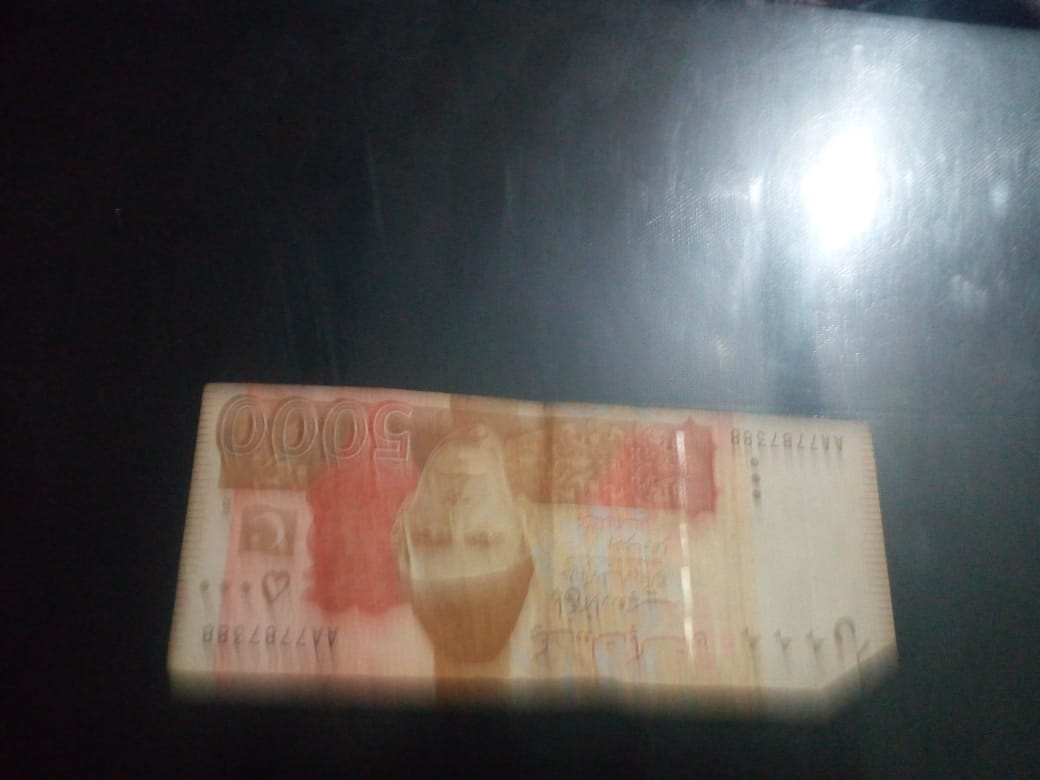5000 rupee: (128, 383, 918, 725)
